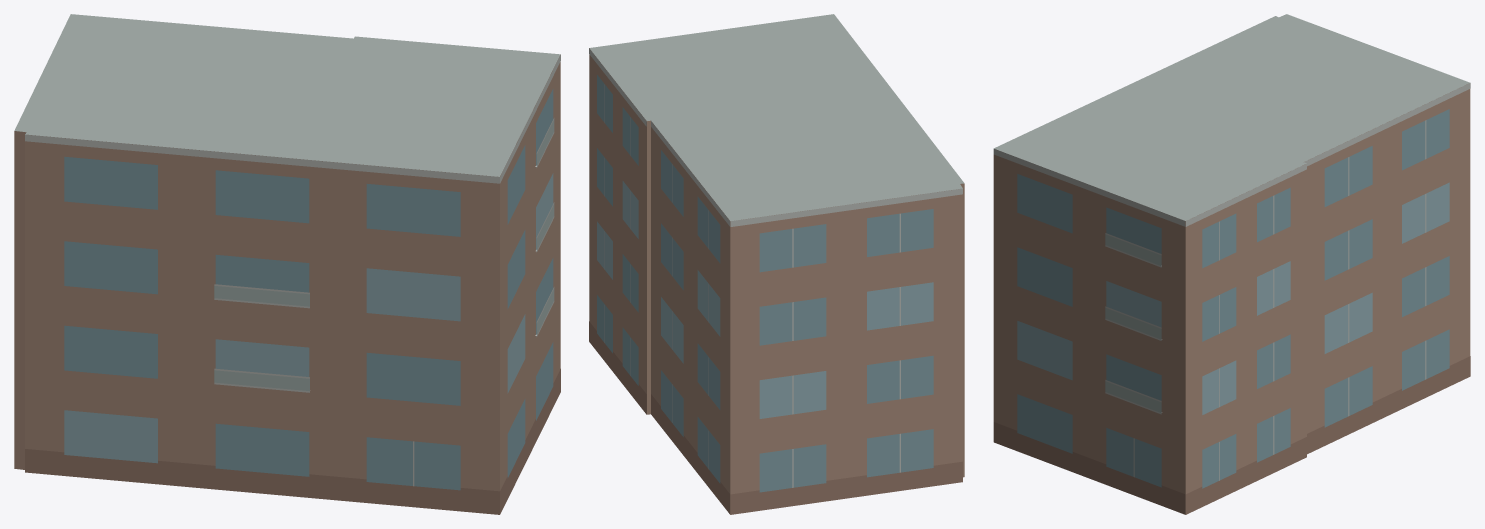
File: survey-upis-32985627.glb
3 renders of one model, left to right at view 1: azimuth 30°, elevation 25°; view 2: azimuth 150°, elevation 25°; view 3: azimuth 270°, elevation 25°, orthographic. The views are drawn at different scales.
Visible parts, largest first — view 1: survey-upis-32985627.tmp; view 2: survey-upis-32985627.tmp; view 3: survey-upis-32985627.tmp.
Boxes of the visible parts, x1=… form: survey-upis-32985627.tmp: x1=14, y1=14, x2=560, y2=514; survey-upis-32985627.tmp: x1=589, y1=14, x2=964, y2=514; survey-upis-32985627.tmp: x1=993, y1=14, x2=1470, y2=514.
Size of the model in its own units: 18.33 by 12.12 by 17.84.
